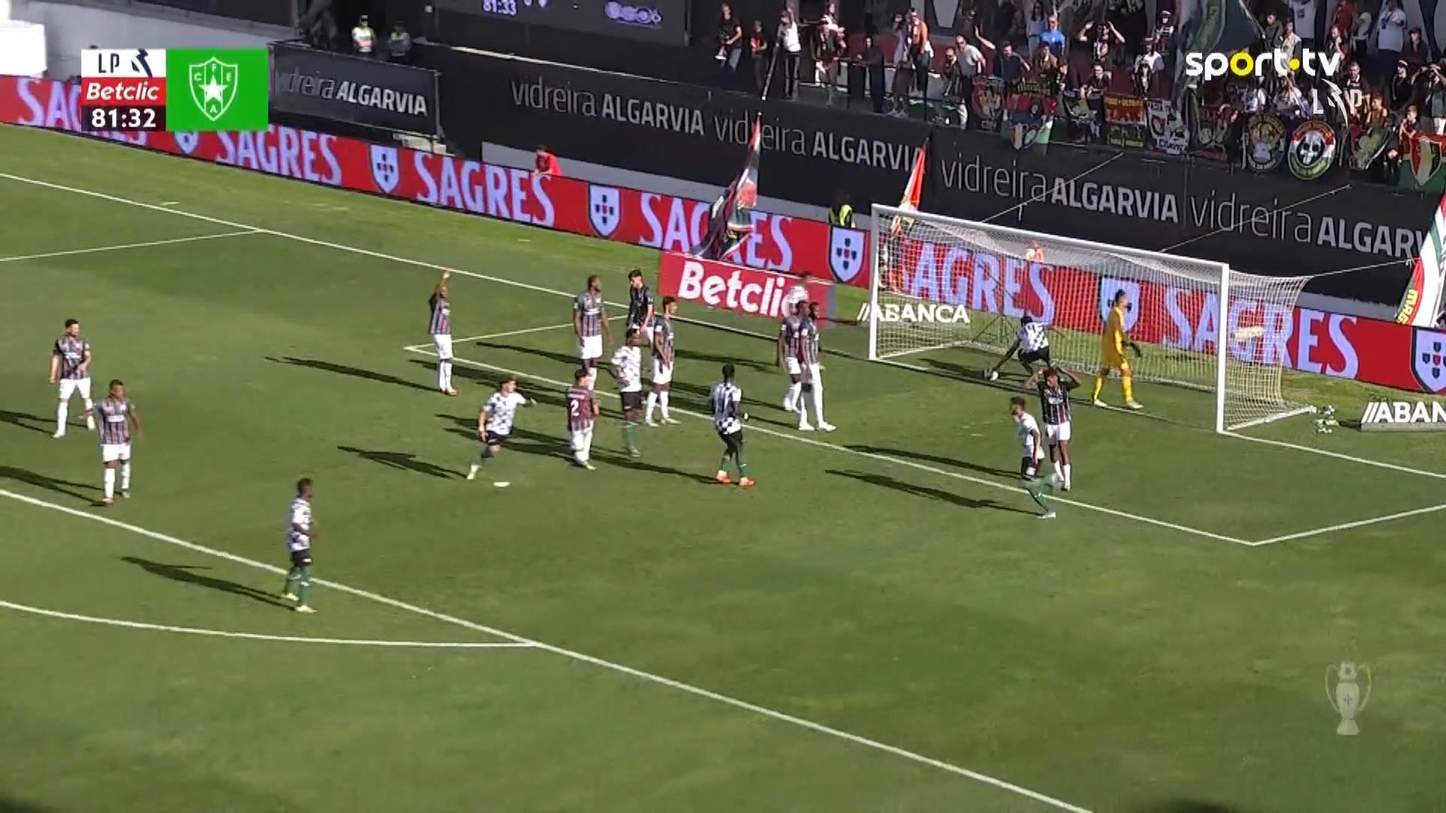goalkeeper: (1089, 288, 1145, 410)
player: (80, 378, 142, 505), (465, 376, 537, 480), (1008, 394, 1061, 519), (983, 311, 1066, 390), (1030, 364, 1080, 491), (47, 317, 96, 439), (793, 299, 837, 431), (706, 362, 751, 484), (281, 476, 319, 613), (607, 326, 646, 458), (571, 273, 612, 392), (775, 285, 813, 413), (642, 294, 678, 426), (426, 269, 458, 395), (564, 367, 599, 470), (624, 267, 654, 346)
